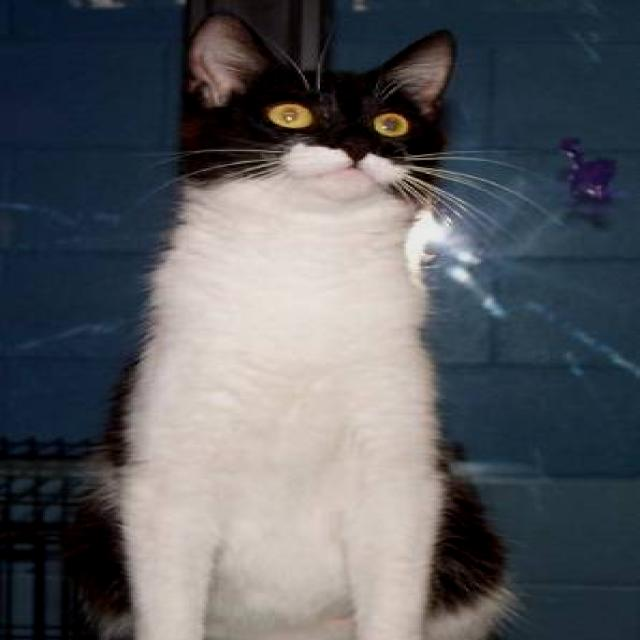Kucing: (18, 1, 584, 616)
